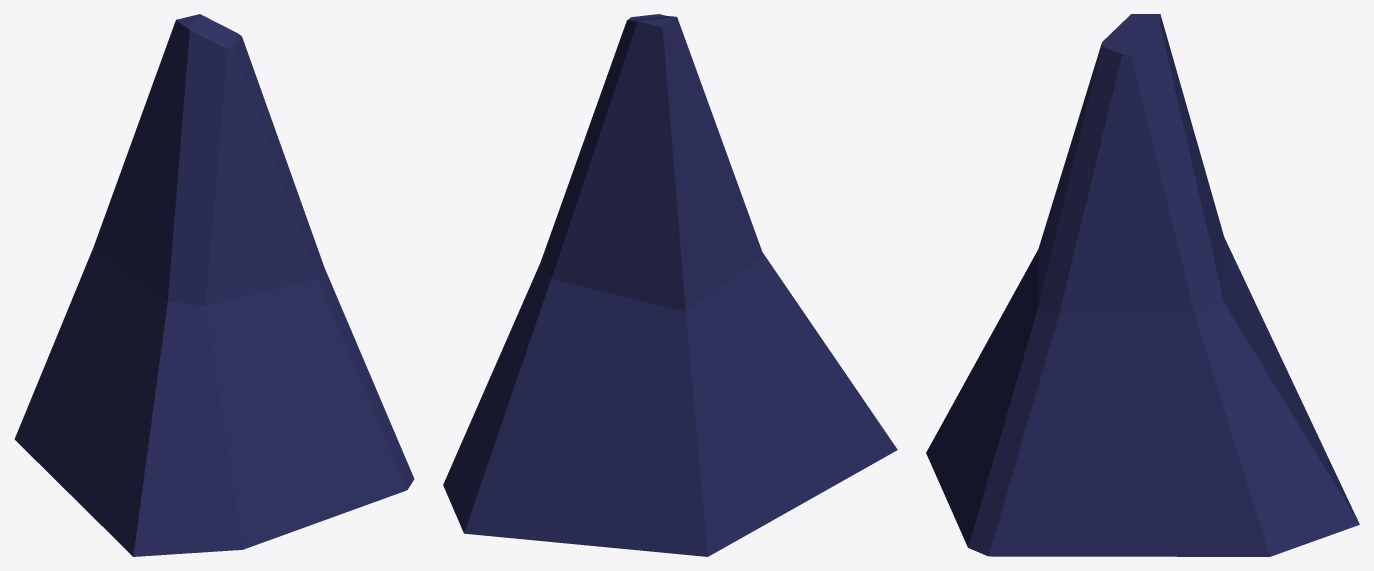
The model's file is shitbgvolcano.fbx.
3 views of the same model, side by side, from view 1: azimuth 30°, elevation 25°; view 2: azimuth 150°, elevation 25°; view 3: azimuth 270°, elevation 25° (orthographic). The views are drawn at different scales.
Visible parts, largest first — view 1: shitbgvolcano; view 2: shitbgvolcano; view 3: shitbgvolcano.
Boxes of the visible parts, left/top/right/bottom form: shitbgvolcano: left=14, top=14, right=414, bottom=556; shitbgvolcano: left=443, top=14, right=897, bottom=556; shitbgvolcano: left=926, top=14, right=1359, bottom=556.
Size of the model in its own units: 4646 by 6664 by 5676.
